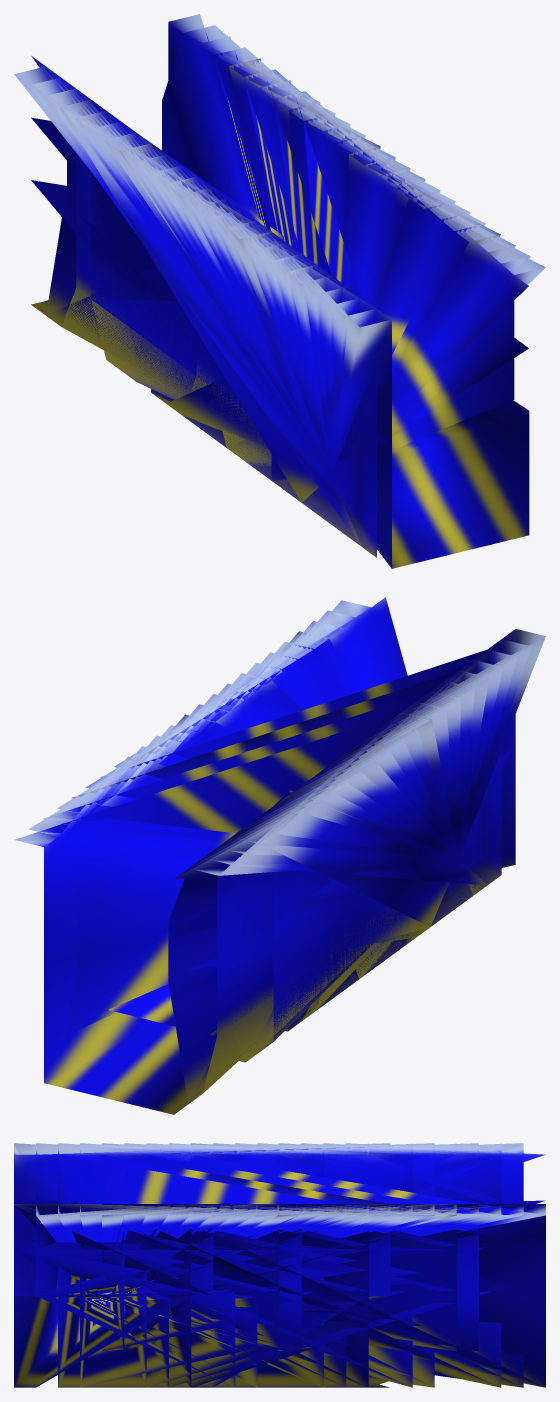
Rendered from stage.fbx.
3 views of the same model, one above another, from view 1: azimuth 30°, elevation 25°; view 2: azimuth 150°, elevation 25°; view 3: azimuth 270°, elevation 25° (orthographic). The views are drawn at different scales.
Visible parts, largest first — view 1: Mesh; view 2: Mesh; view 3: Mesh.
Boxes of the visible parts, x1,y1,x2,y2 form: Mesh: [14, 14, 545, 568]; Mesh: [14, 597, 545, 1114]; Mesh: [14, 1143, 545, 1387].
Bounding box in the file's own units: 18.95 × 22.46 × 58.96.
Materials: 1 (1 with a texture image).
